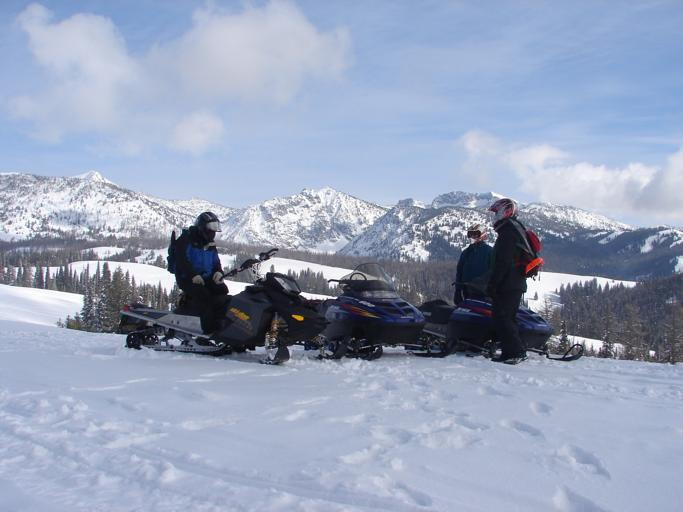non-vehicle: (109, 244, 330, 374), (290, 257, 457, 358), (407, 277, 583, 364)
